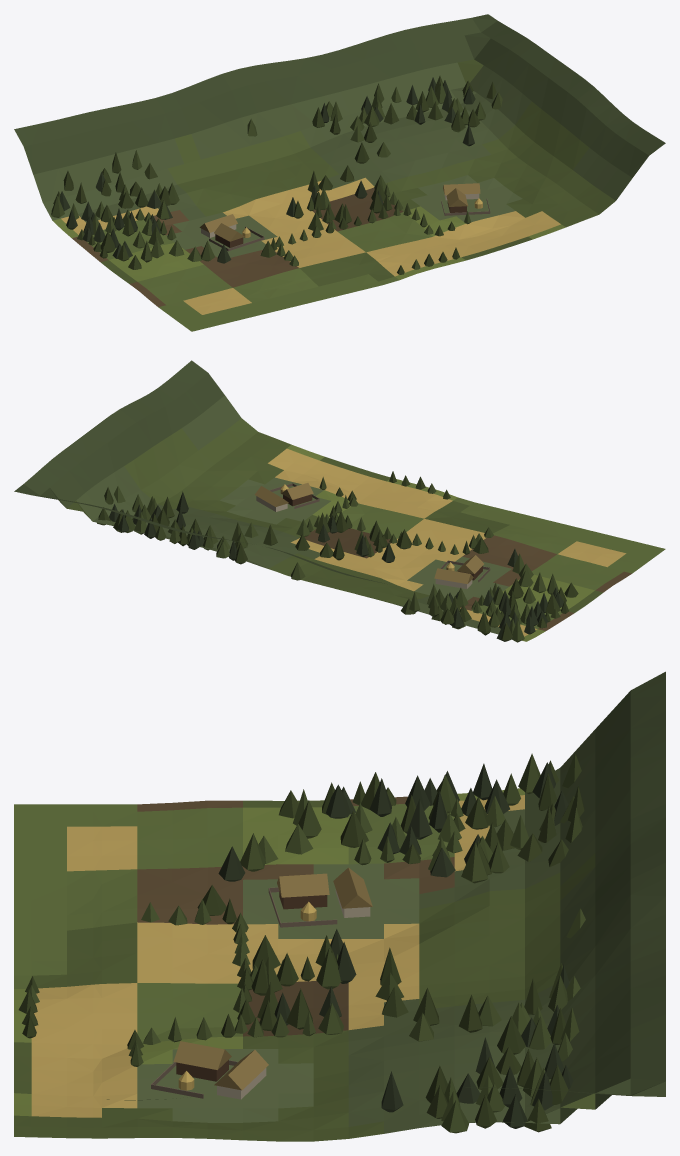
File: backdrop-north.glb
3 views of the same model, one above another, from view 1: azimuth 30°, elevation 25°; view 2: azimuth 150°, elevation 25°; view 3: azimuth 270°, elevation 25° (orthographic). The views are drawn at different scales.
Visible parts, largest first — view 1: backdrop-north; view 2: backdrop-north; view 3: backdrop-north.
Boxes of the visible parts, bbox=[...] form: backdrop-north: bbox=[14, 14, 665, 331]; backdrop-north: bbox=[14, 360, 665, 642]; backdrop-north: bbox=[14, 671, 665, 1141].
Bounding box in the file's own units: 228 × 35.82 × 148.
Materials: 1 (1 with a texture image).
